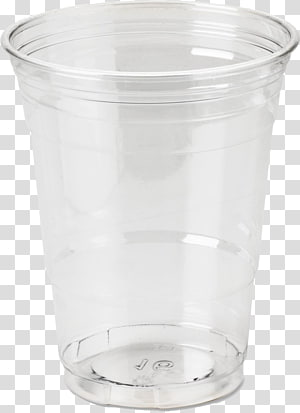plastic_glass: (1, 1, 300, 413)
